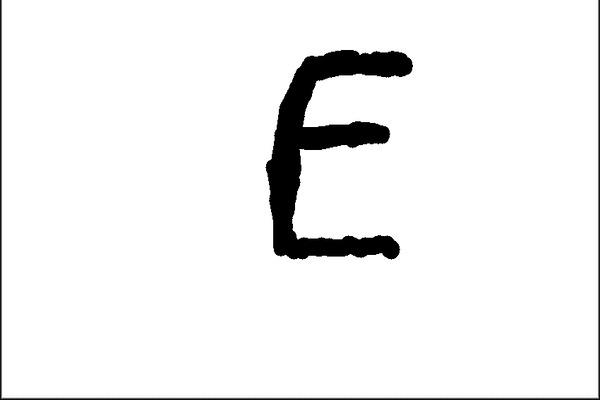E: (261, 40, 422, 265)
